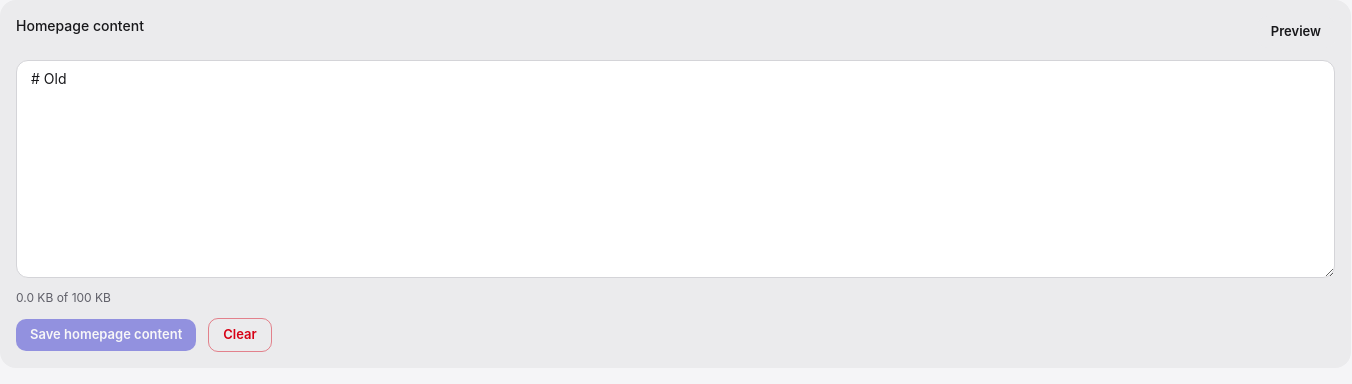
Test: InstanceDocumentEditor (homepage flavor) › clears the stored document with an empty-body PUT after confirmation
Expected: the text box named "Homepage content" is shown, [16,60,1335,278]
Click the button "Clear": (240, 335) [208,318,272,352]
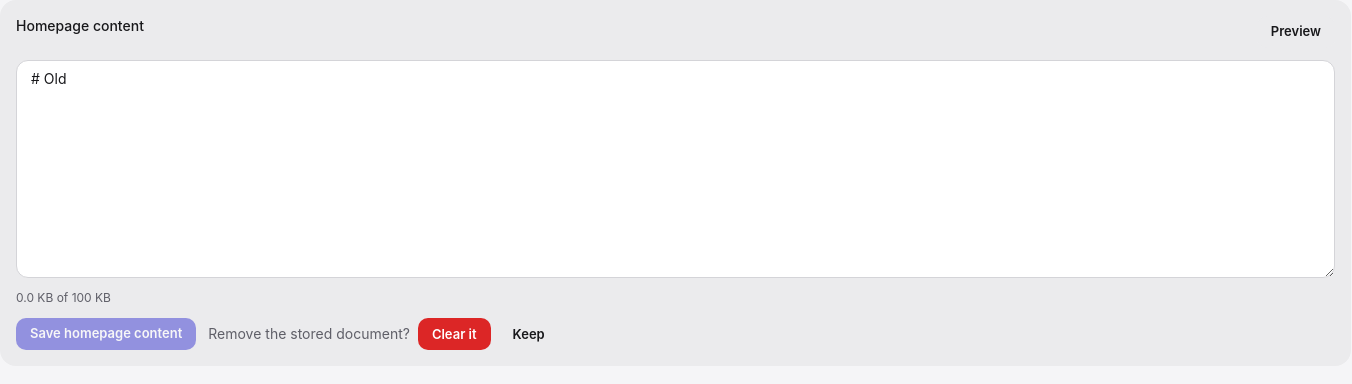
Click the button with aria-label "Confirm clearing Homepage content": (454, 334) [418,318,491,350]
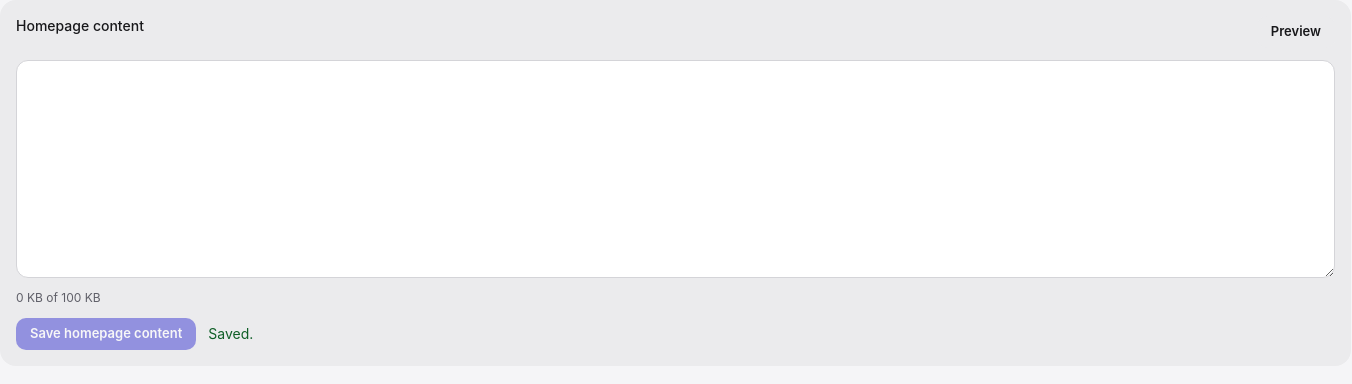
Result: the text box named "Homepage content" is empty at [16,60,1335,278]
Result: the button "Clear" is gone
